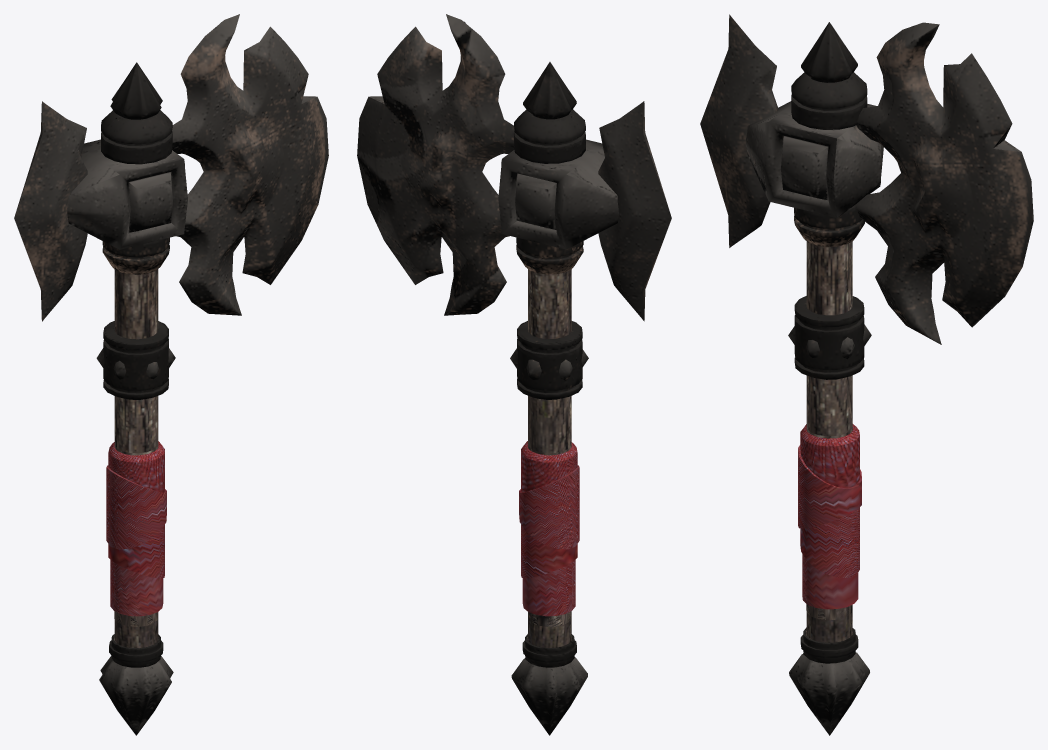
3 views of the same model, side by side, from view 1: azimuth 30°, elevation 25°; view 2: azimuth 150°, elevation 25°; view 3: azimuth 330°, elevation 25° (orthographic). The views are drawn at different scales.
Parts seen in each view (by area): view 1: Axe; view 2: Axe; view 3: Axe.
Boxes of the visible parts, left/top/right/bottom form: Axe: left=14, top=14, right=328, bottom=735; Axe: left=357, top=14, right=671, bottom=735; Axe: left=700, top=14, right=1033, bottom=735.
Size of the model in its own units: 1.24 by 2.61 by 0.3321.
Materials: 1 (1 with a texture image).
